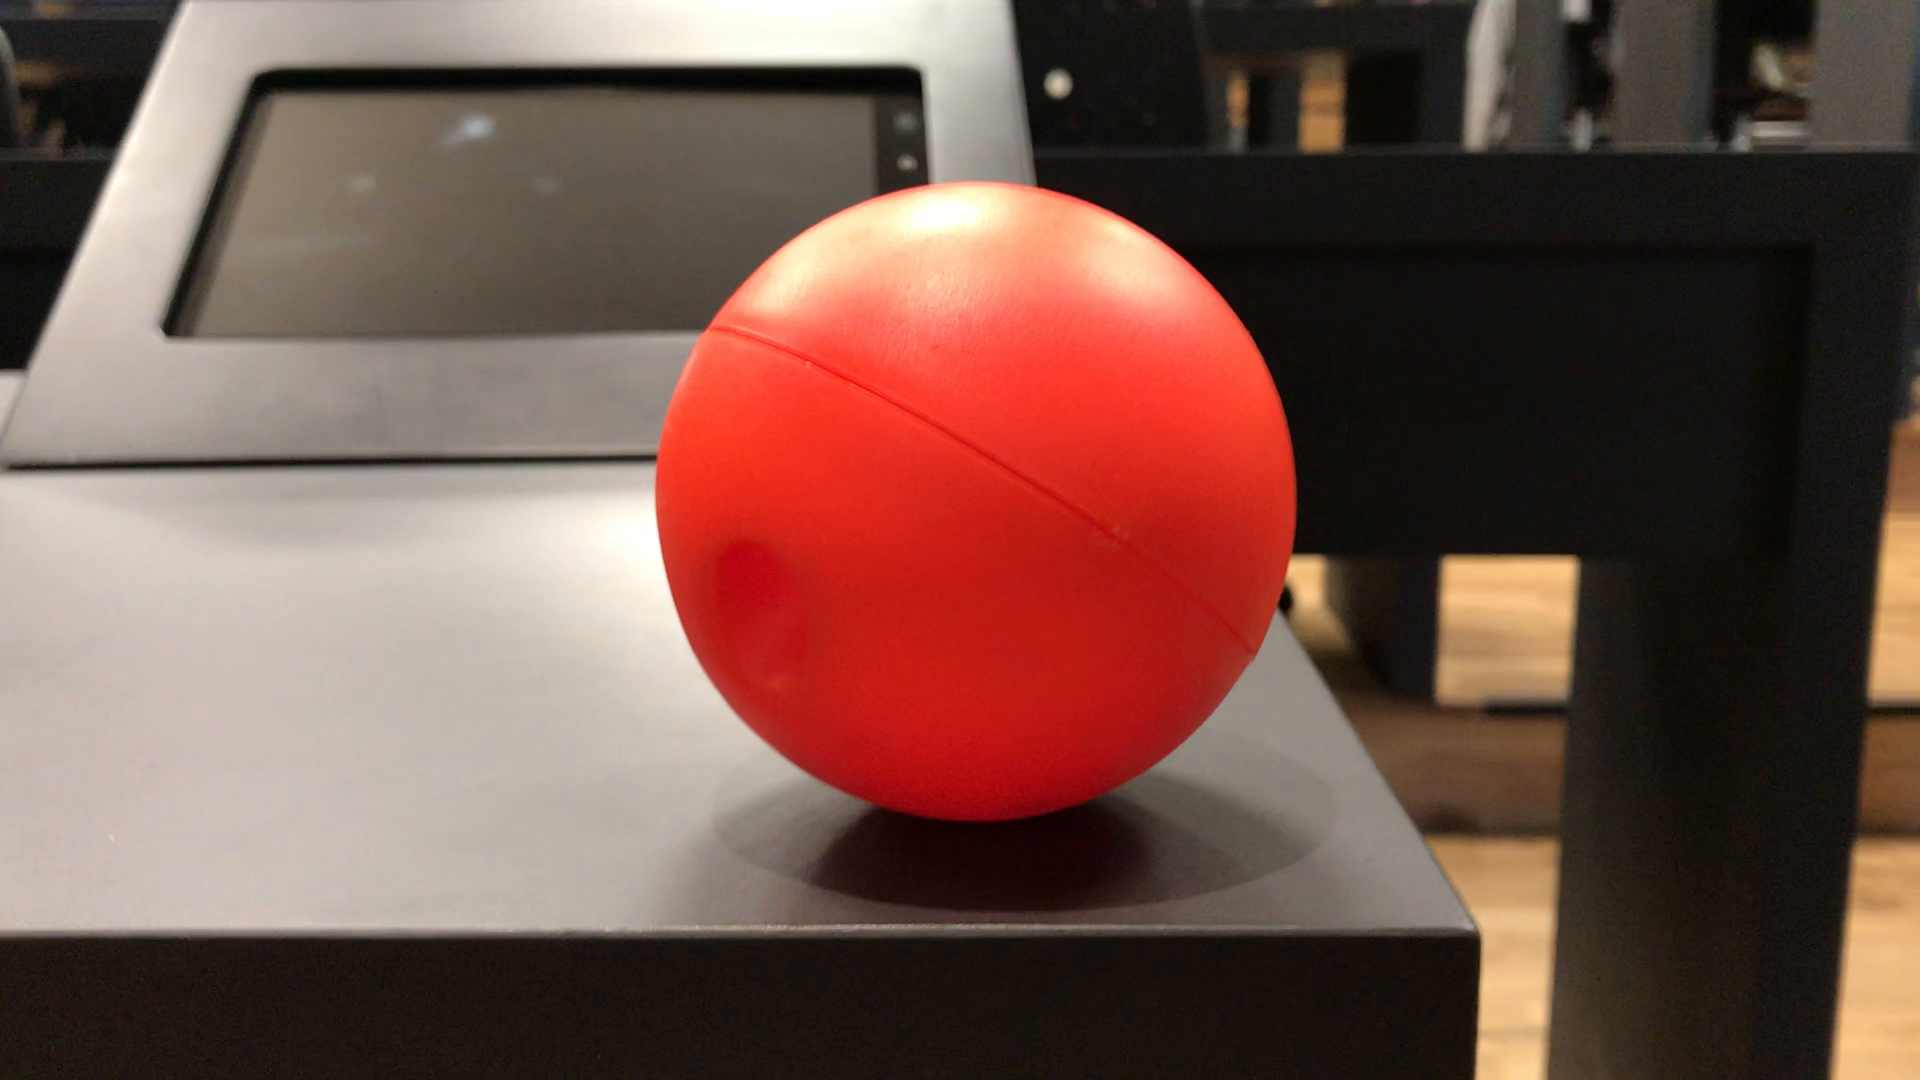Ball: (657, 185, 1296, 815)
